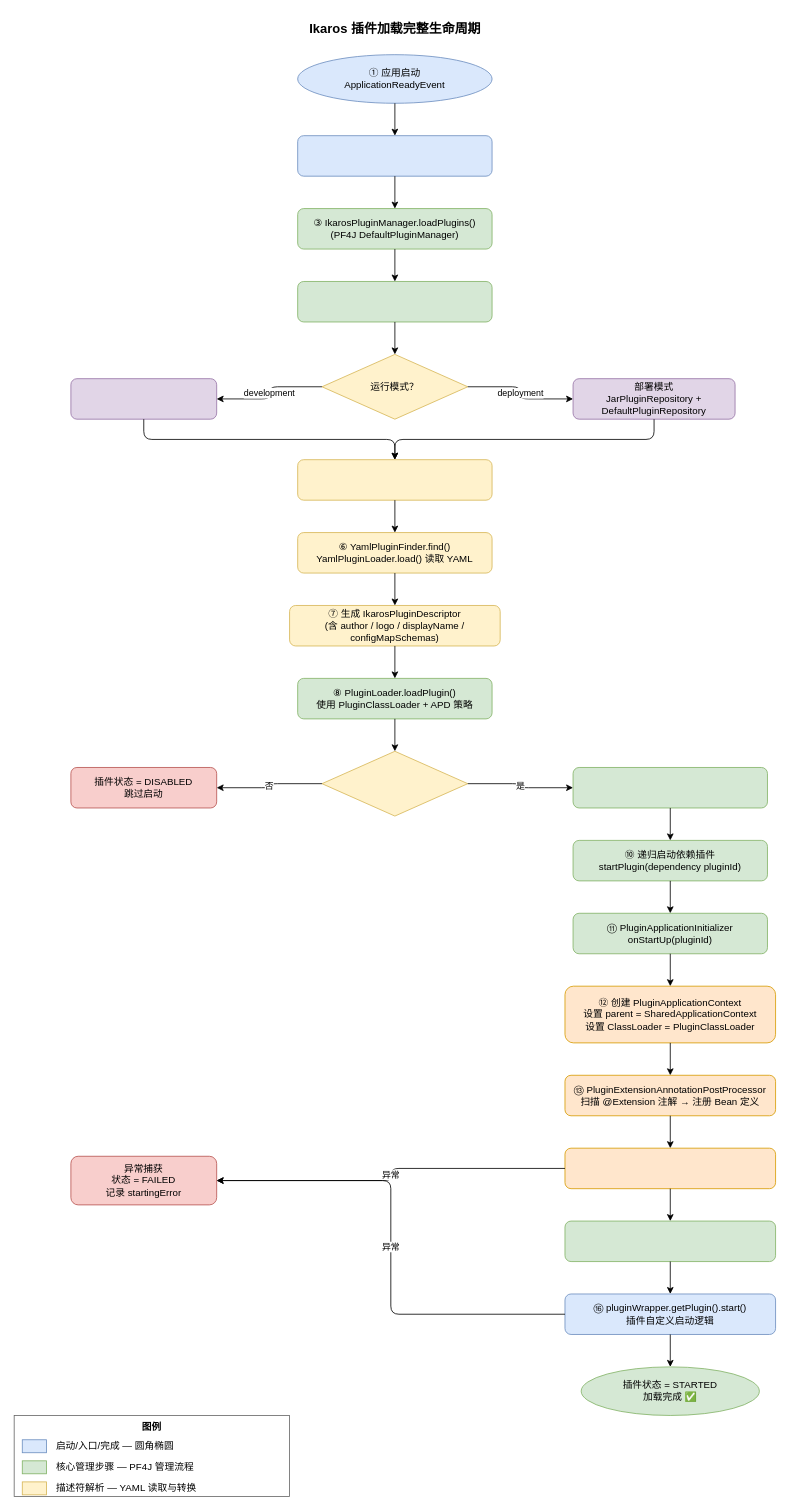
Some shapes in this 790 by 1511 pixel diagram are drawn without their labels. The centre of each missing label's shape, as x and y in pixels:
"PropertyPluginStatusProvider 插件是否启用？" belongs at (394,783).
"② PluginPropertiesEnablesInitListener initialize() 触发" belongs at (394,155).
"④ PluginRepository.getPluginPaths() 发现所有候选插件路径" belongs at (394,301).
"⑤ YamlPluginDescriptorFinder.find() 解析 plugin.yaml" belongs at (394,479).
"⑨ startPlugin(pluginId) 插件状态 = RESOLVED → 开始启动" belongs at (669,787).
"⑭ 注册扩展类为 Bean pluginApplicationContext.refresh()" belongs at (670,1168).
"⑮ 注册到 PluginApplicationContextRegistry" belongs at (670,1241).
"开发模式 FixedPathDevelopmentPluginRepository" belongs at (143,398).
